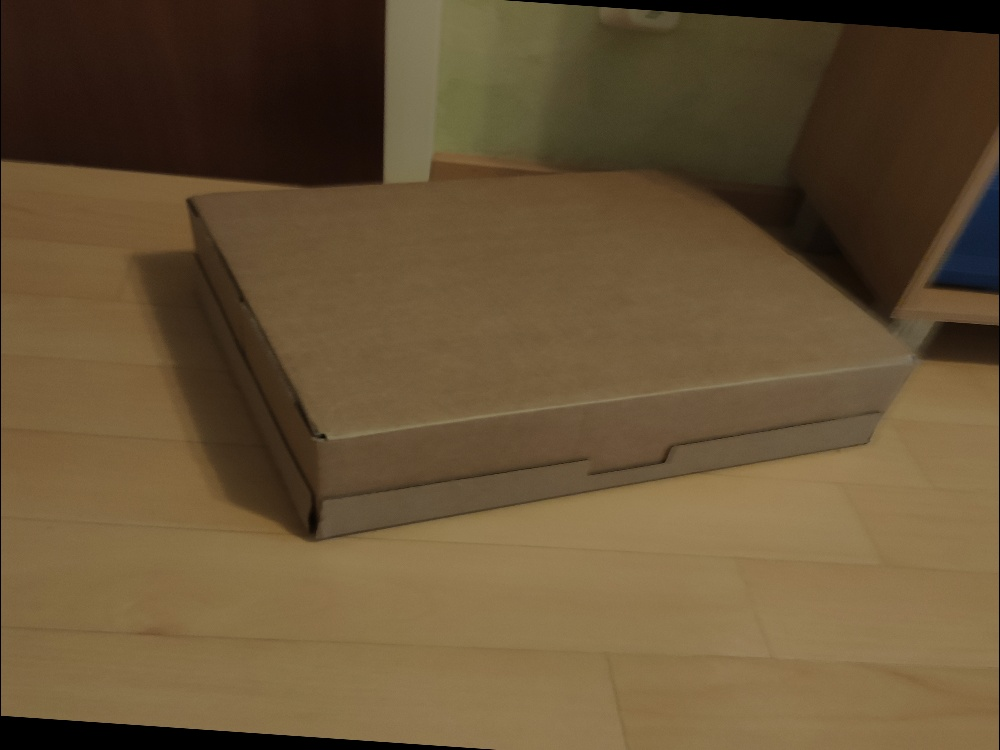good-parcel: (164, 154, 918, 547)
